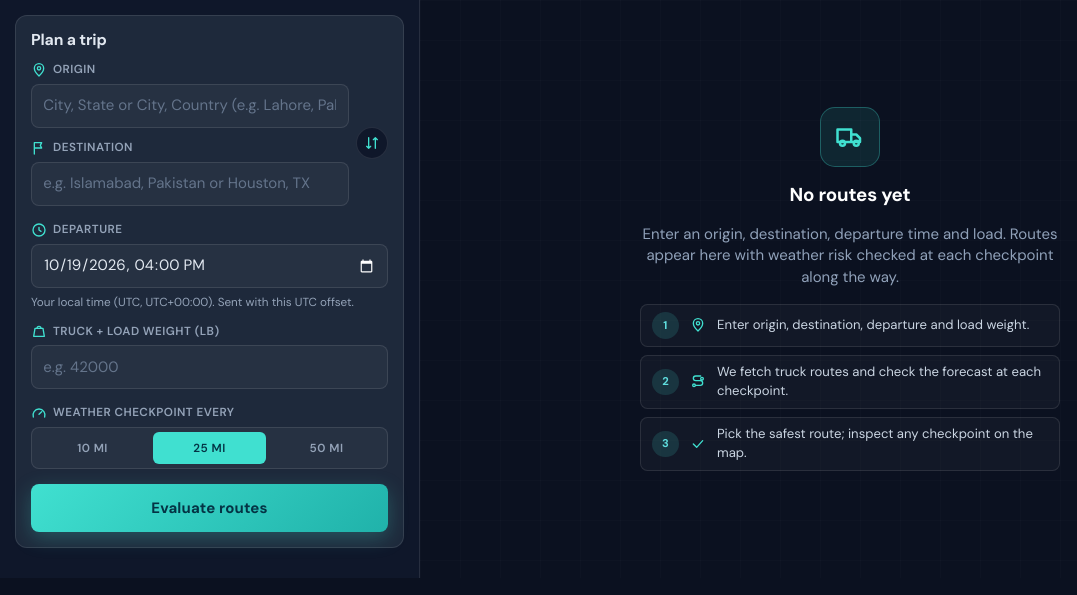
Test case: RoutePlanner › swaps origin and destination
This screenshot has width=1077, height=595.
Type "Waco, TX" into the dropdown labelled "Origin" at (190, 106), box [31, 84, 348, 128]
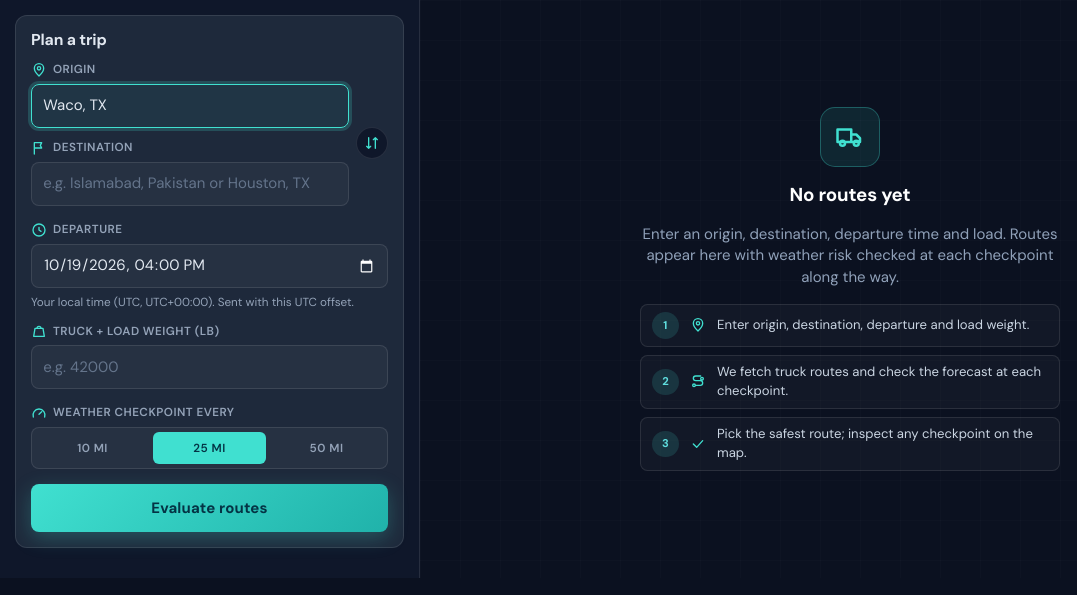
Type "Temple, TX" into the dropdown labelled "Destination" at (190, 184), box [31, 162, 348, 206]
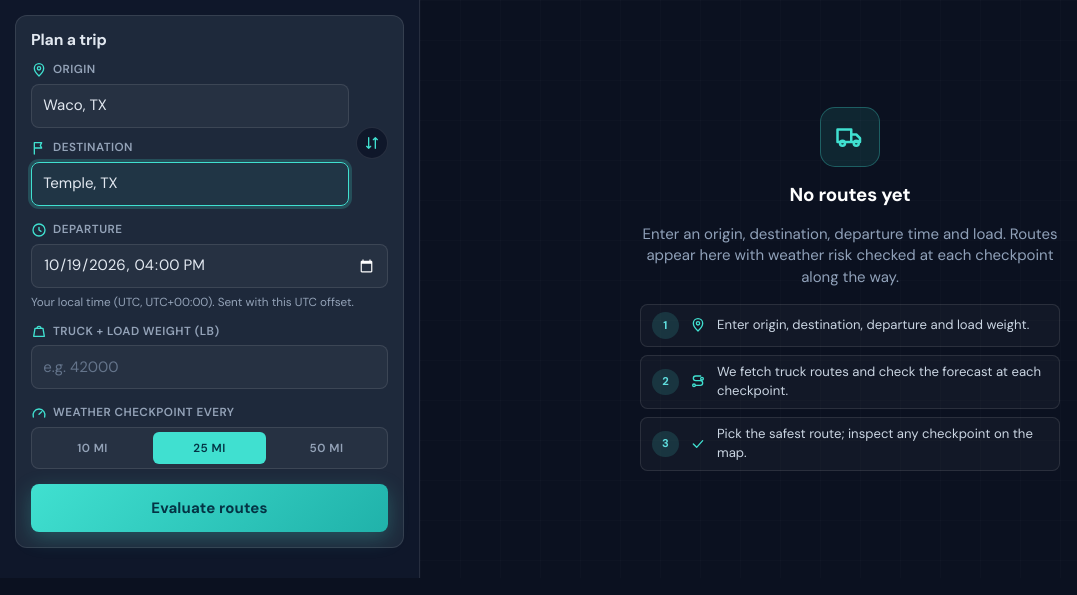
Replace the text in the field labelled "Departure" with "2026-10-19T08:00" at (210, 266), box [31, 244, 388, 288]
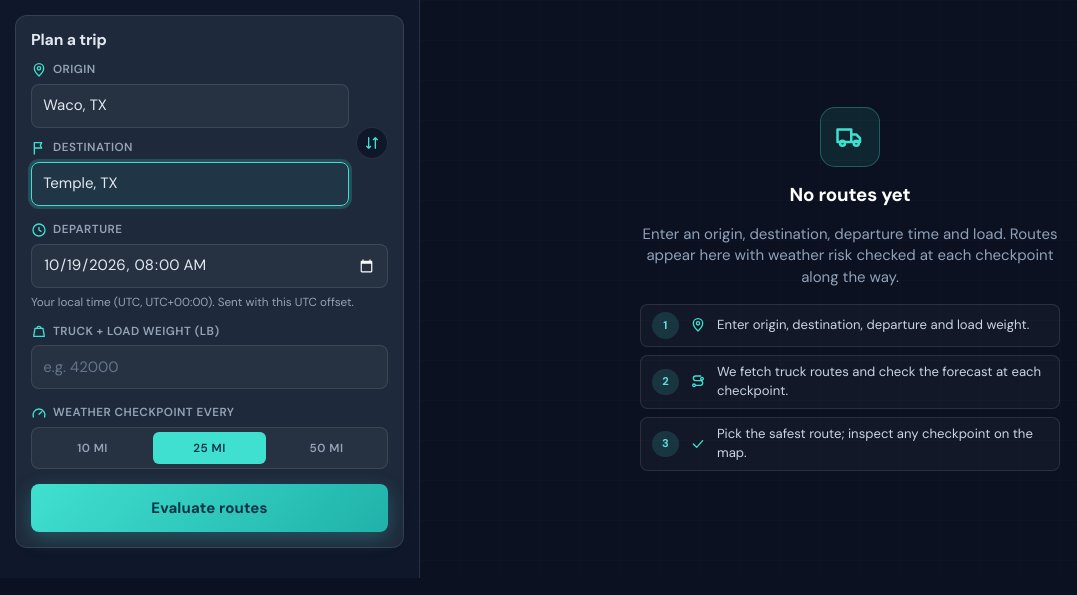
Type "42000" into the number field labelled "Truck + load weight (lb)" at (210, 368), box [31, 346, 388, 390]
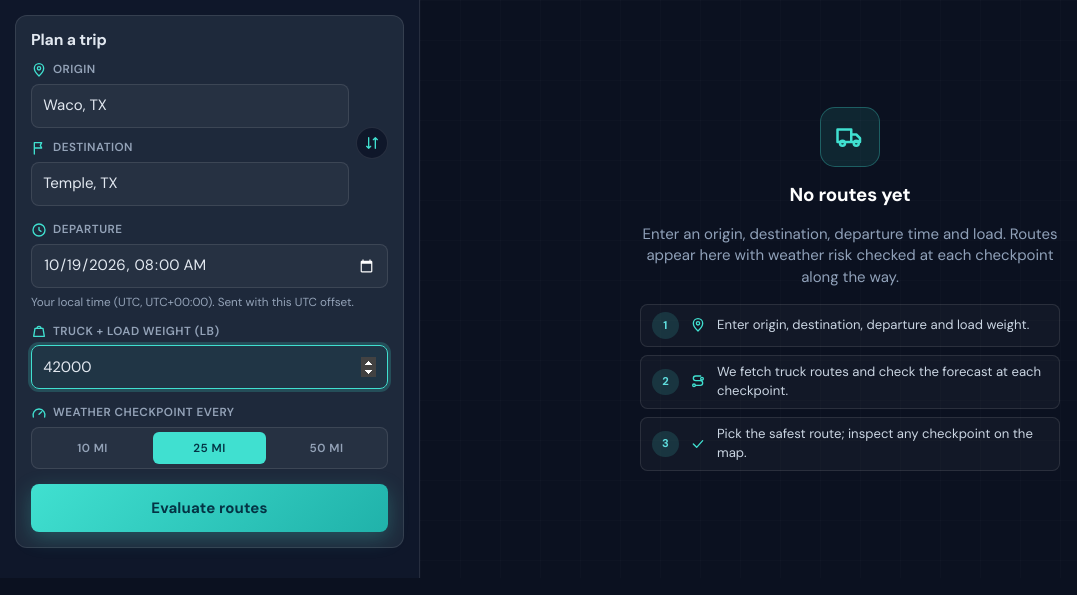
Click the button named "Swap origin and destination" at (372, 143), box [356, 127, 388, 159]
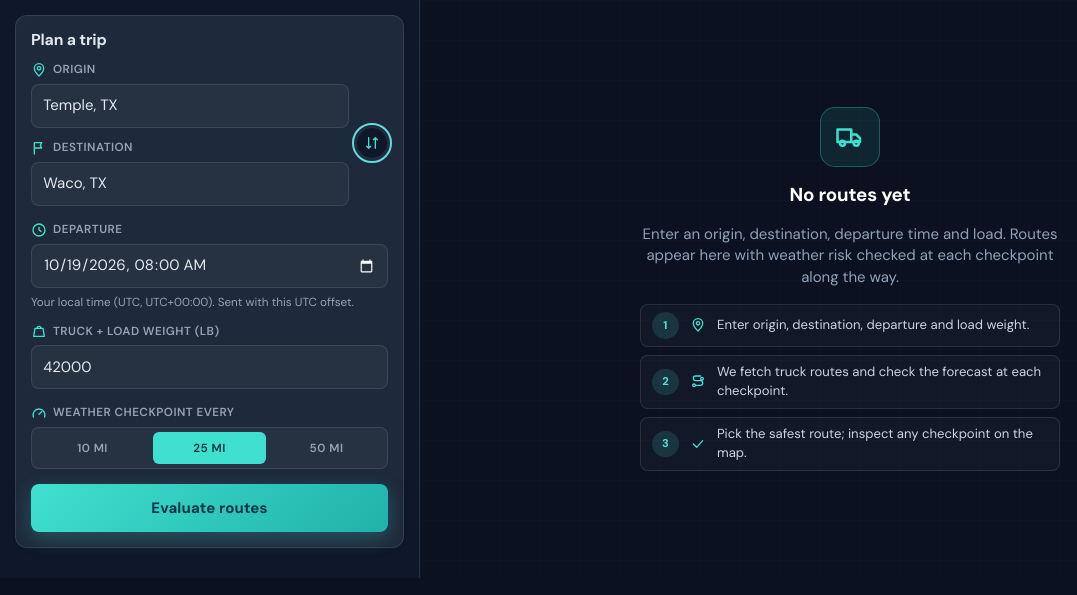
Check: the dropdown labelled "Origin" holds "Temple, TX", box [31, 84, 348, 128]
Check: the dropdown labelled "Destination" holds "Waco, TX", box [31, 162, 348, 206]
